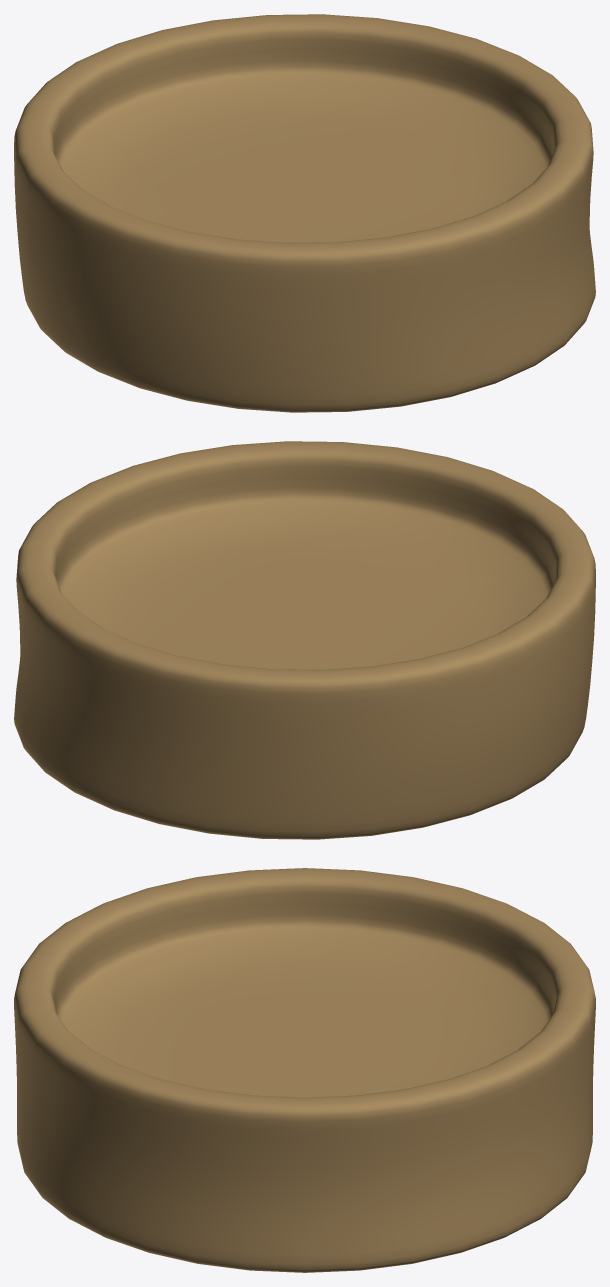
The model's file is SM_20001TocoArvoreP.fbx.
The picture shows the model from 3 angles, top to bottom: view 1: azimuth 30°, elevation 25°; view 2: azimuth 150°, elevation 25°; view 3: azimuth 270°, elevation 25°; orthographic projection.
Visible parts, largest first — view 1: SM_20001TocoArvoreP; view 2: SM_20001TocoArvoreP; view 3: SM_20001TocoArvoreP.
Part boxes in pixels (left/top/right/bottom): SM_20001TocoArvoreP: left=14, top=14, right=595, bottom=412; SM_20001TocoArvoreP: left=14, top=441, right=595, bottom=839; SM_20001TocoArvoreP: left=14, top=868, right=595, bottom=1272.
Bounding box in the file's own units: 50.11 × 15.67 × 49.79.
